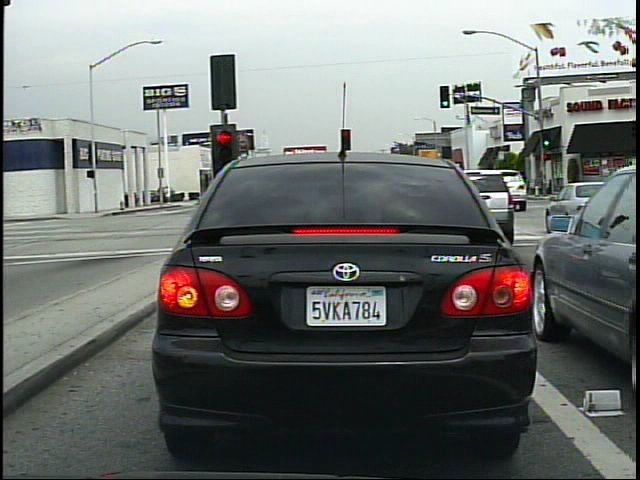person: (519, 166, 534, 199), (164, 183, 175, 207)
